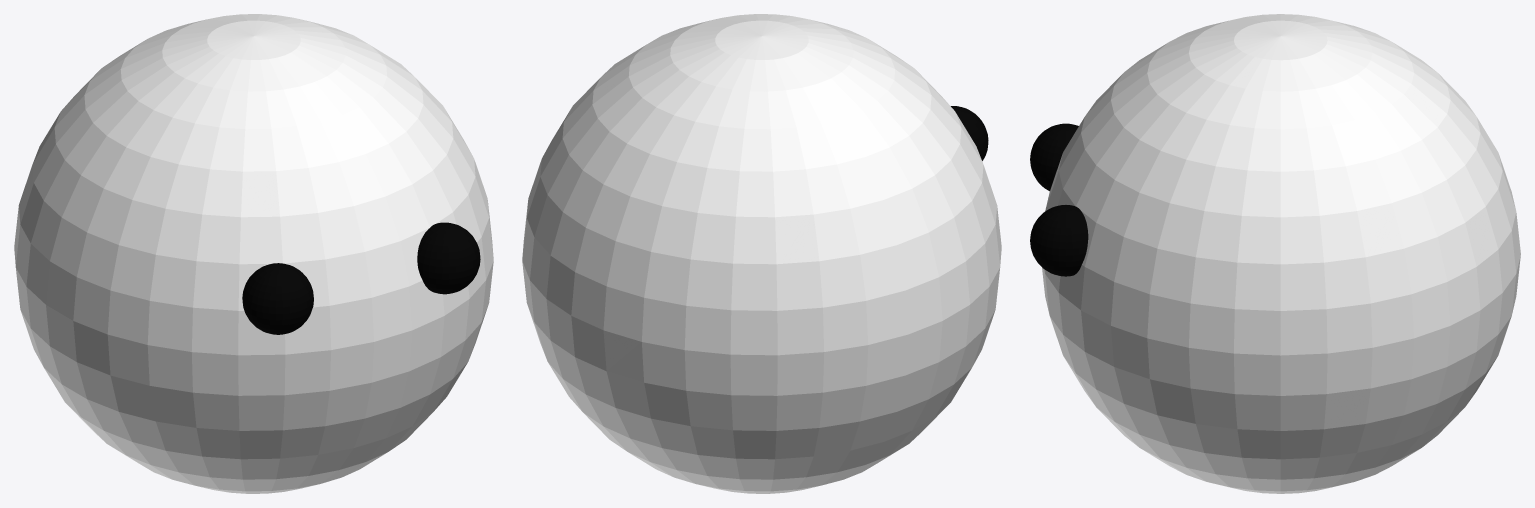
The model's file is ghost_model.obj.
The picture shows the model from 3 angles, left to right: view 1: azimuth 30°, elevation 25°; view 2: azimuth 150°, elevation 25°; view 3: azimuth 270°, elevation 25°; orthographic projection.
Visible parts, largest first — view 1: ghost; view 2: ghost; view 3: ghost.
Boxes of the visible parts, box(x1,y1,x2,y2) form: ghost: box(14, 14, 493, 493); ghost: box(522, 14, 1001, 493); ghost: box(1030, 14, 1520, 493).
Bounding box in the file's own units: 1 × 1 × 1.02.
1 material, 1 textured.
